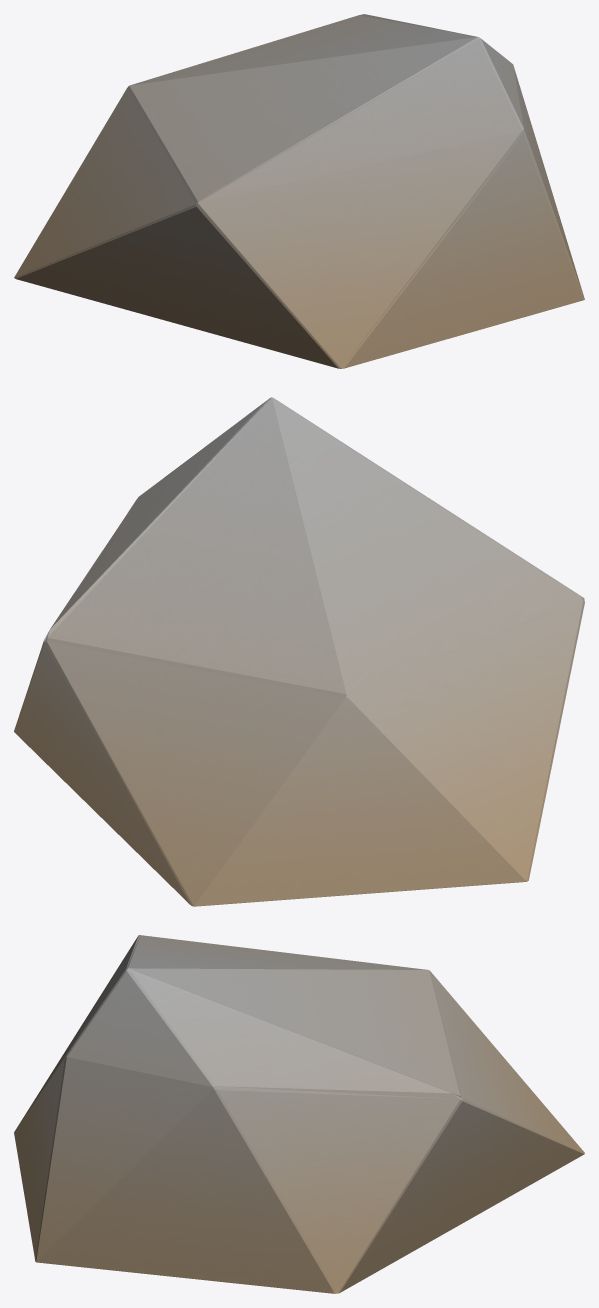
File: Snow rock 2.fbx
3 views of the same model, one above another, from view 1: azimuth 30°, elevation 25°; view 2: azimuth 150°, elevation 25°; view 3: azimuth 270°, elevation 25° (orthographic). The views are drawn at different scales.
Visible parts, largest first — view 1: Snow rock 2; view 2: Snow rock 2; view 3: Snow rock 2.
Part boxes in pixels (<box>): Snow rock 2: <box>14,14,584,368</box>; Snow rock 2: <box>14,397,584,906</box>; Snow rock 2: <box>14,935,584,1293</box>.
Bounding box in the file's own units: 8.5 × 4.29 × 8.5.
